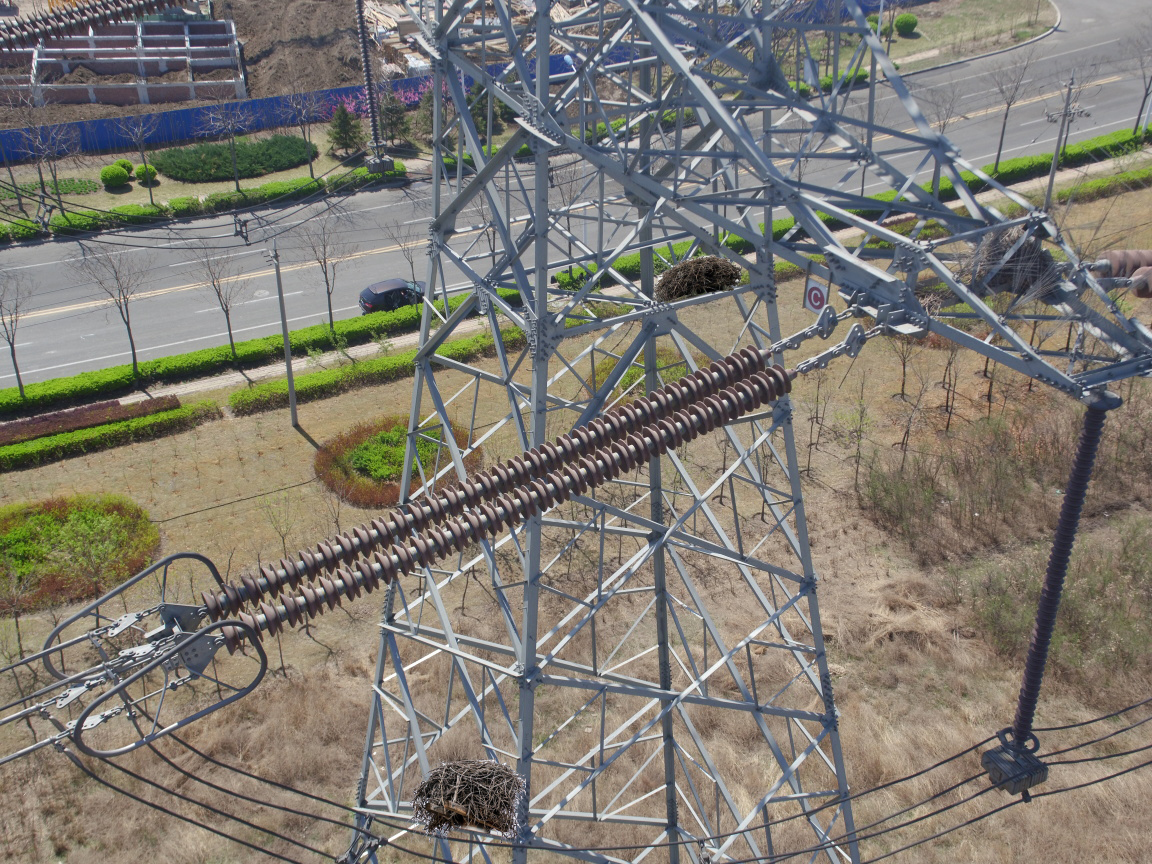nest: (896, 232, 1113, 327), (403, 754, 529, 839), (643, 253, 743, 307)
